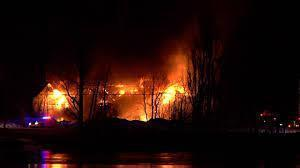fire: (83, 56, 199, 122), (34, 79, 81, 121)
